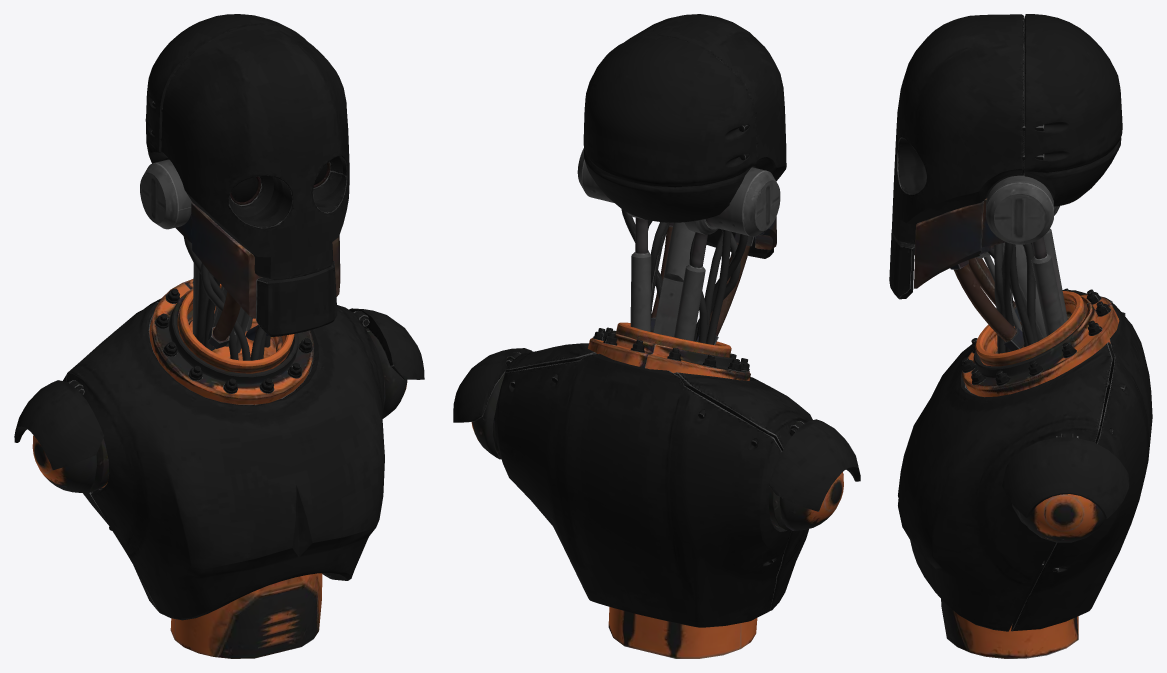
File: robot-transformed.glb
3 views of the same model, side by side, from view 1: azimuth 30°, elevation 25°; view 2: azimuth 150°, elevation 25°; view 3: azimuth 270°, elevation 25° (orthographic).
Visible parts, largest first — view 1: Object_2; view 2: Object_2; view 3: Object_2.
Boxes of the visible parts, x1,y1,x2,y2 form: Object_2: (14, 14, 424, 658); Object_2: (453, 14, 860, 658); Object_2: (889, 14, 1152, 658).
Size of the model in its own units: 1.33 by 2 by 0.7906.
1 material, 1 textured.
